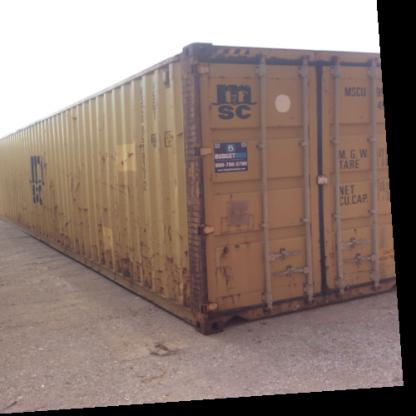Damage: (93, 242, 188, 302), (54, 220, 94, 258), (65, 171, 91, 214), (214, 236, 238, 281), (116, 136, 146, 172), (16, 202, 45, 238), (94, 174, 134, 198), (46, 175, 61, 216), (213, 290, 245, 309), (163, 218, 176, 243), (173, 123, 187, 142), (97, 149, 110, 165), (96, 218, 106, 236), (99, 201, 112, 214), (70, 115, 79, 120)
